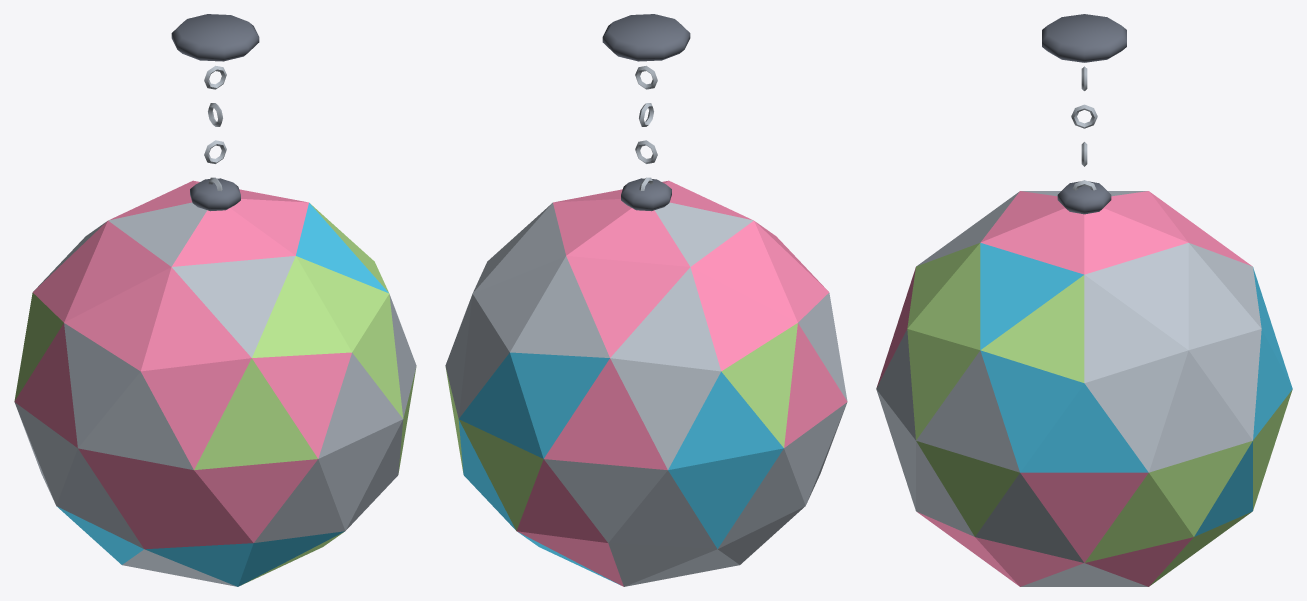
File: W6_DiscoBall.fbx
3 renders of one model, left to right at view 1: azimuth 30°, elevation 25°; view 2: azimuth 150°, elevation 25°; view 3: azimuth 270°, elevation 25°, orthographic.
Visible parts, largest first — view 1: Ball, Static; view 2: Ball, Static; view 3: Ball, Static.
Part boxes in pixels (box(x1,y1,x2,y2)): Ball: box(14, 178, 416, 586); Static: box(171, 14, 259, 191); Ball: box(445, 178, 847, 586); Static: box(602, 14, 690, 191); Ball: box(876, 181, 1292, 586); Static: box(1042, 14, 1126, 190).
Size of the model in its own units: 2.66 by 4.06 by 2.8.
